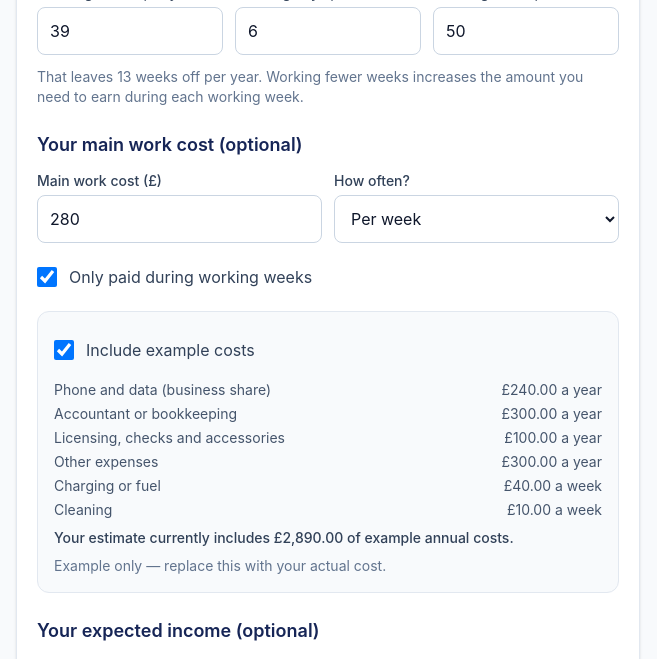
Scenario: QuickEstimate › removes the disclosure when example costs are excluded
(page scrolled)
Check: the text with test id "example-costs-disclosure" is shown, box [54,529,514,546]
Click the checkbox labelled "Include example costs".
click(64, 350)  # box [54,340,74,360]
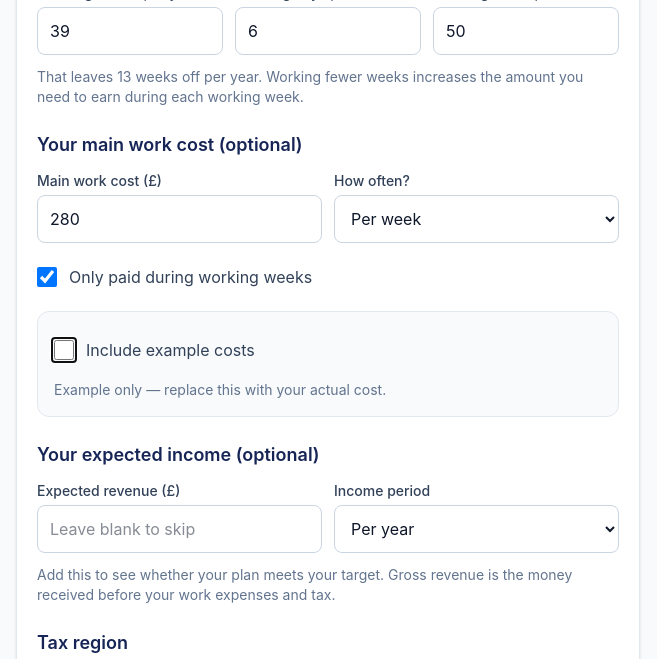
Check: the text with test id "example-costs-disclosure" is gone
